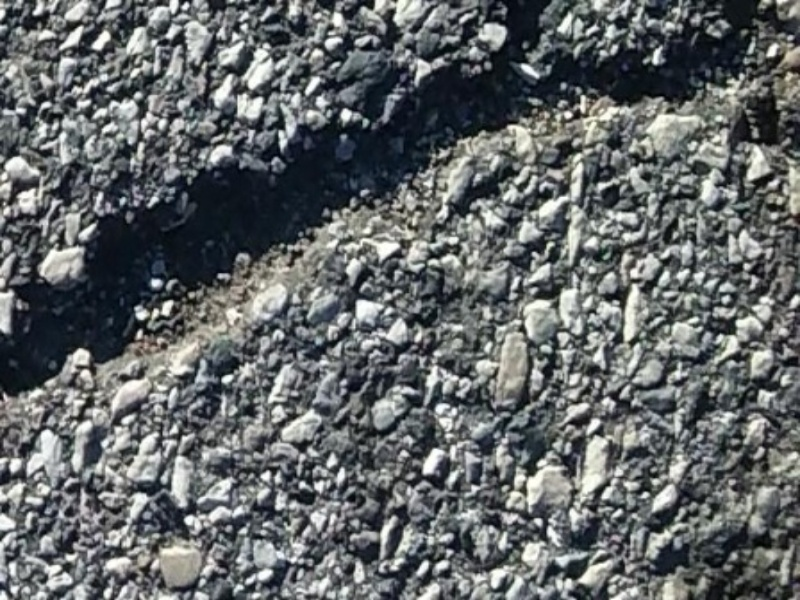crack: (6, 8, 783, 452)
